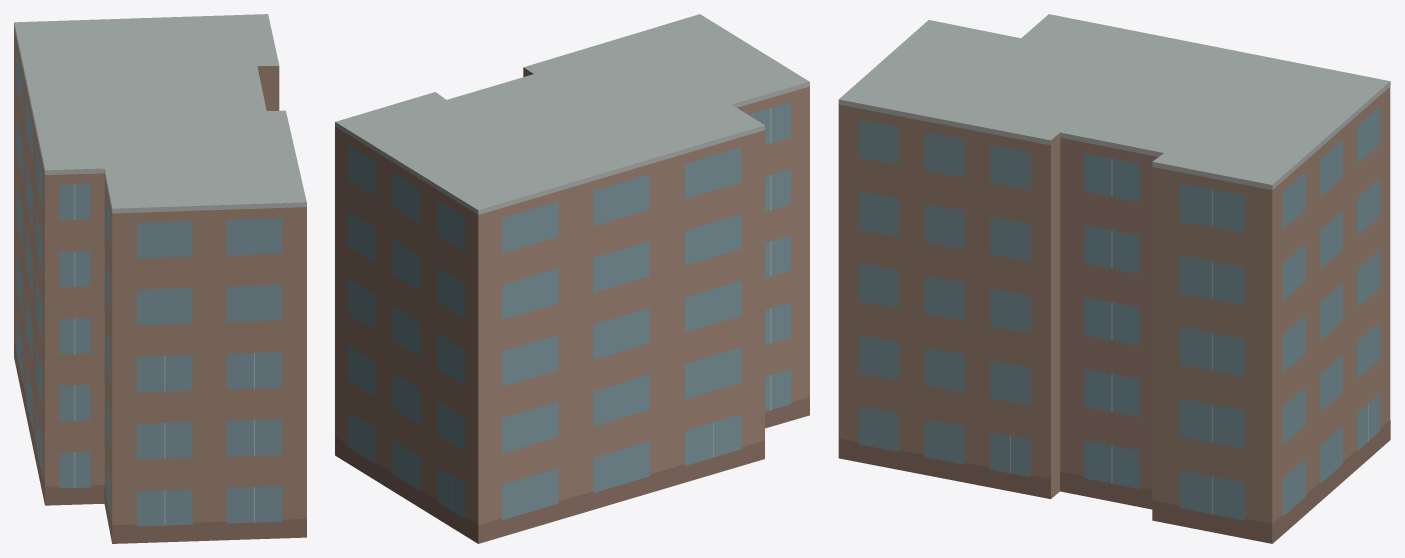
Rendered from survey-upis-32550846.glb.
3 renders of one model, left to right at view 1: azimuth 30°, elevation 25°; view 2: azimuth 150°, elevation 25°; view 3: azimuth 270°, elevation 25°, orthographic. The views are drawn at different scales.
Parts seen in each view (by area): view 1: survey-upis-32550846.tmp; view 2: survey-upis-32550846.tmp; view 3: survey-upis-32550846.tmp.
Boxes of the visible parts, bbox=[...] form: survey-upis-32550846.tmp: bbox=[14, 14, 306, 543]; survey-upis-32550846.tmp: bbox=[335, 14, 809, 543]; survey-upis-32550846.tmp: bbox=[838, 14, 1390, 543].
Size of the model in its own units: 17.6 by 17.2 by 23.98.
